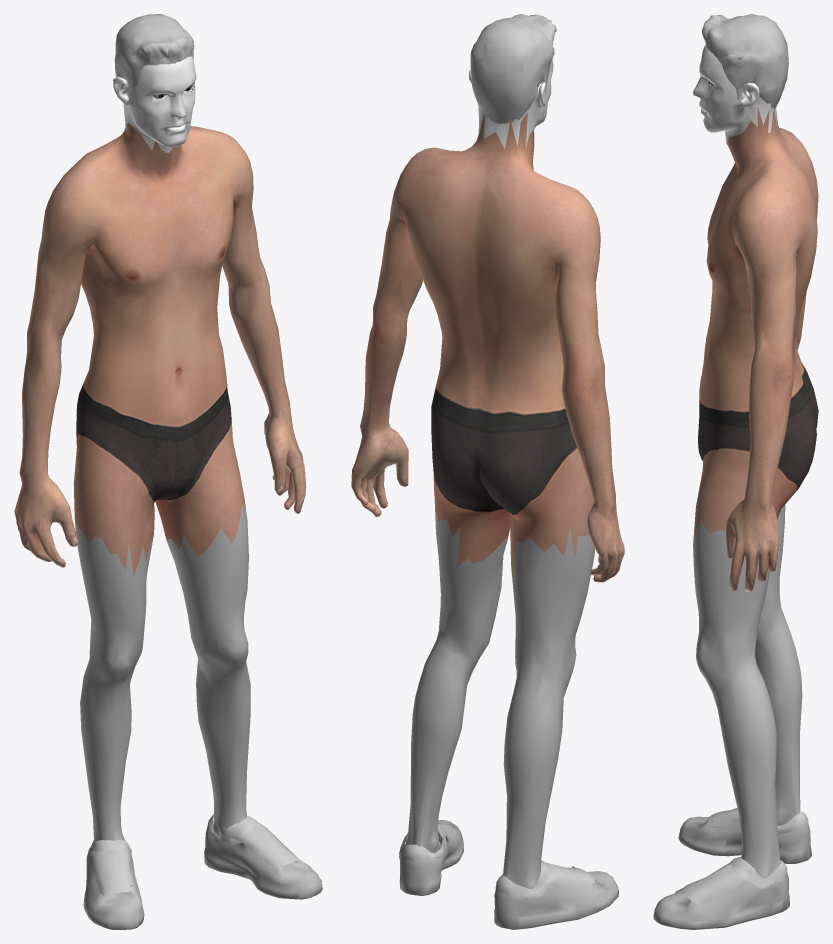
File: Man 2.fbx
The picture shows the model from 3 angles, left to right: view 1: azimuth 30°, elevation 25°; view 2: azimuth 150°, elevation 25°; view 3: azimuth 270°, elevation 25°; orthographic projection. The views are drawn at different scales.
Parts seen in each view (by area): view 1: Mesh; view 2: Mesh; view 3: Mesh.
Boxes of the visible parts, x1,y1,x2,y2 form: Mesh: (14, 14, 322, 929); Mesh: (351, 14, 624, 929); Mesh: (653, 14, 818, 929).
Bounding box in the file's own units: 299 × 919 × 162.
